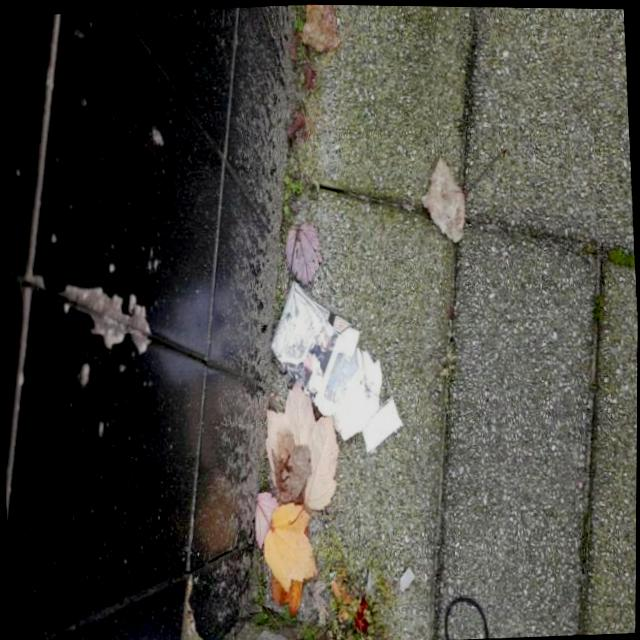Paper: (264, 273, 406, 462)
